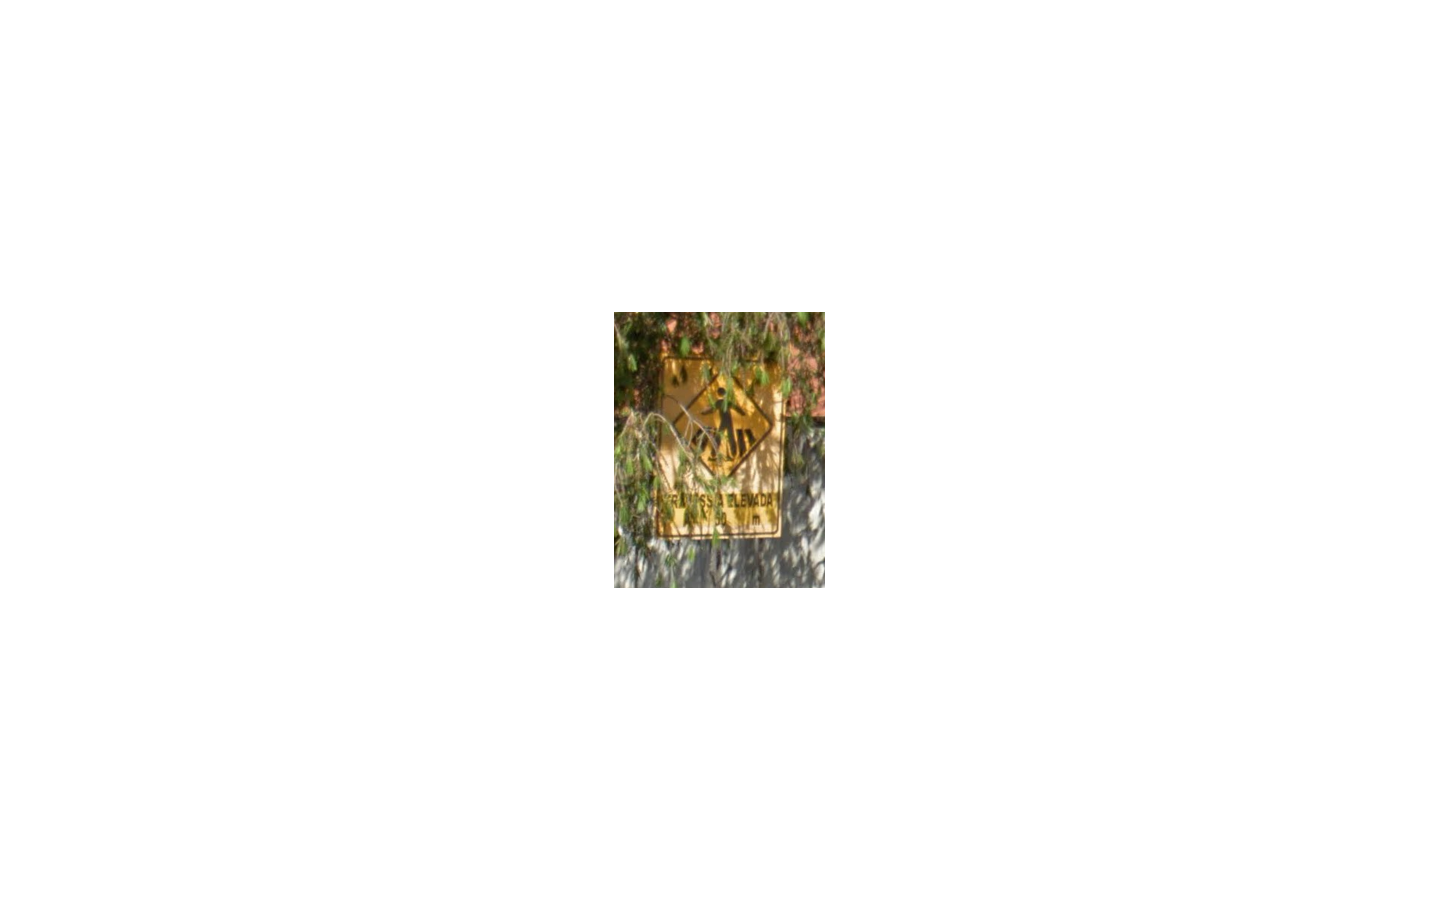t50m: (656, 353, 787, 539)
